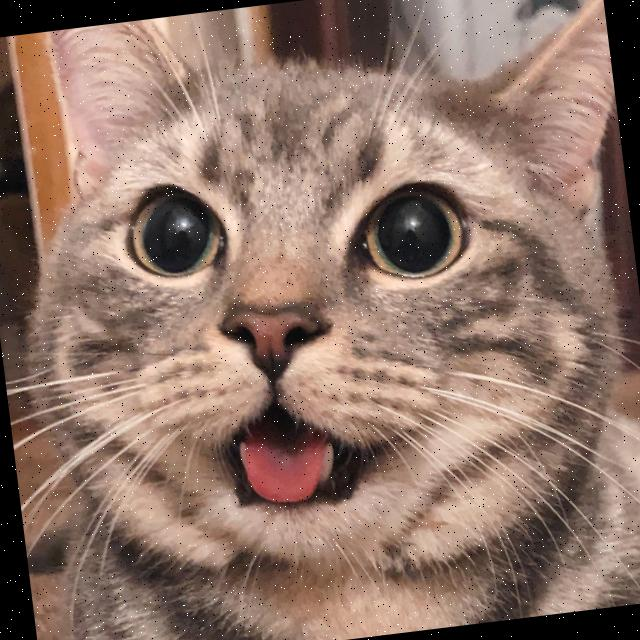Happy: (70, 107, 556, 592)
